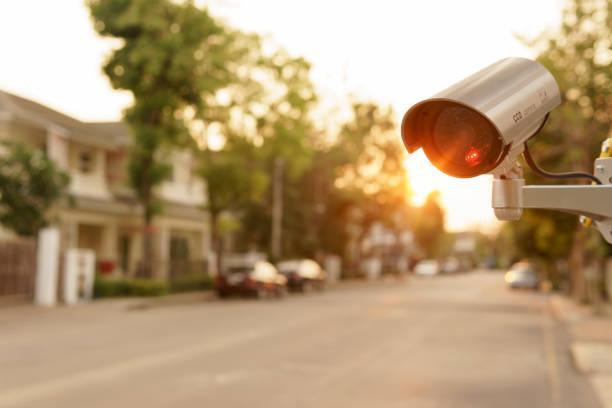camera: (363, 44, 588, 203)
